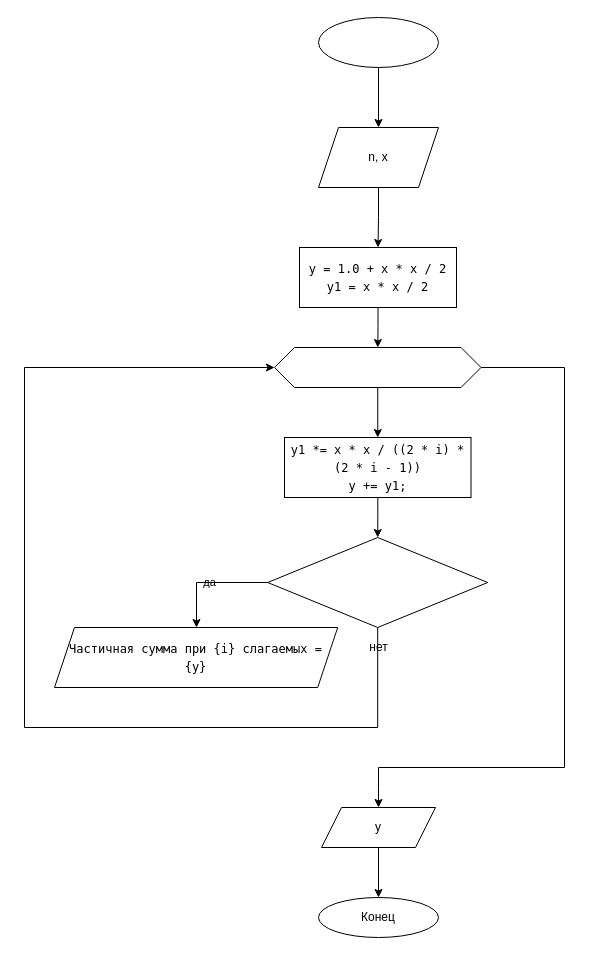
Some shapes in this 590 by 955 pixel diagram are drawn without their labels. Each missing label, with the centre of its shape:
( i == 3 || i == 5 || i == 10 ): the point at 377,582
i = 2 ; i <= n ; i ++: the point at 377,367
Начало: the point at 378,42
